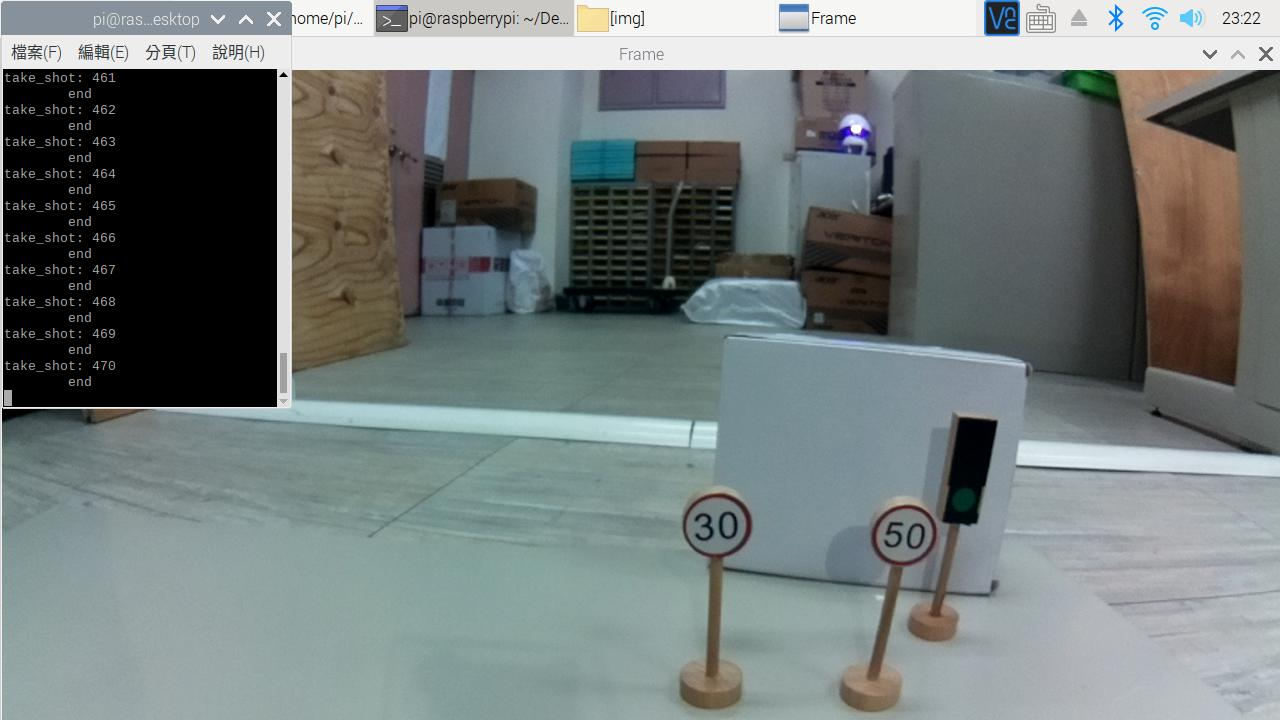Green: (939, 407, 995, 527)
Speed30: (673, 488, 763, 564)
Speed50: (857, 498, 935, 570)
